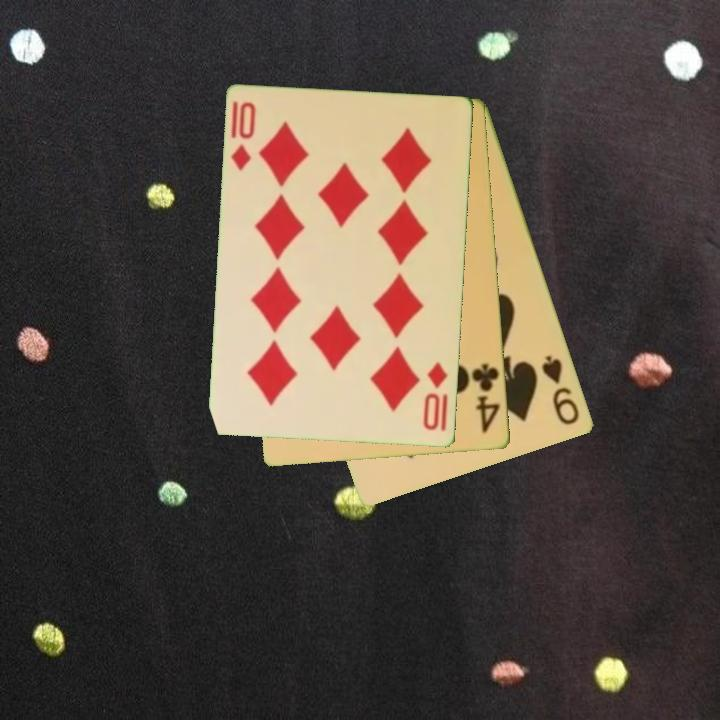10d: (228, 98, 260, 174), (420, 359, 451, 434)
4c: (469, 361, 503, 436)
9s: (538, 351, 583, 428)
